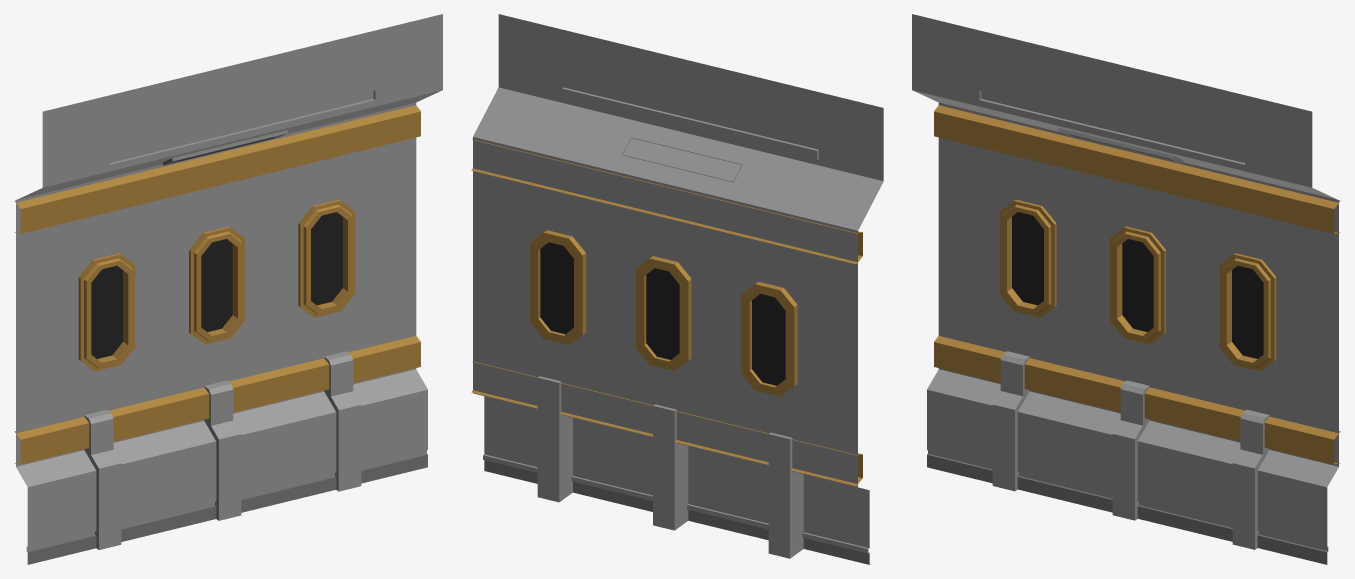
Rendered from ThreeWindows_Wall_SideB.glb.
The picture shows the model from 3 angles, left to right: view 1: azimuth 30°, elevation 25°; view 2: azimuth 150°, elevation 25°; view 3: azimuth 330°, elevation 25°; orthographic projection. The views are drawn at different scales.
Parts seen in each view (by area): view 1: ThreeWindows_Wall_SideB; view 2: ThreeWindows_Wall_SideB; view 3: ThreeWindows_Wall_SideB.
Part boxes in pixels (x1,y1,x2,y2): ThreeWindows_Wall_SideB: (14,14,442,564); ThreeWindows_Wall_SideB: (471,14,883,564); ThreeWindows_Wall_SideB: (912,14,1340,564).
Bounding box in the file's own units: 1.36 × 1.51 × 0.1789.
